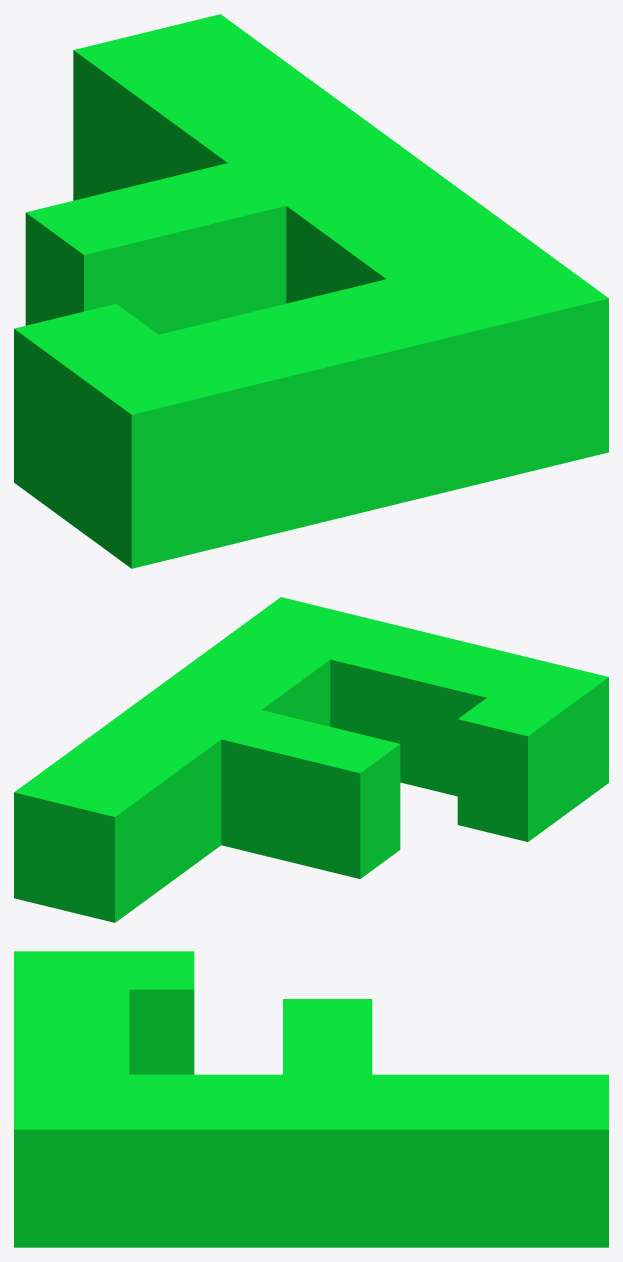
File: LetterF.obj
The picture shows the model from 3 angles, top to bottom: view 1: azimuth 30°, elevation 25°; view 2: azimuth 150°, elevation 25°; view 3: azimuth 270°, elevation 25°; orthographic projection. The views are drawn at different scales.
Visible parts, largest first — view 1: LetterIF; view 2: LetterIF; view 3: LetterIF.
Boxes of the visible parts, left/top/right/bottom form: LetterIF: left=14, top=14, right=608, bottom=568; LetterIF: left=14, top=597, right=608, bottom=922; LetterIF: left=14, top=951, right=608, bottom=1247.
Size of the model in its own units: 3.24 by 1 by 4.57.
